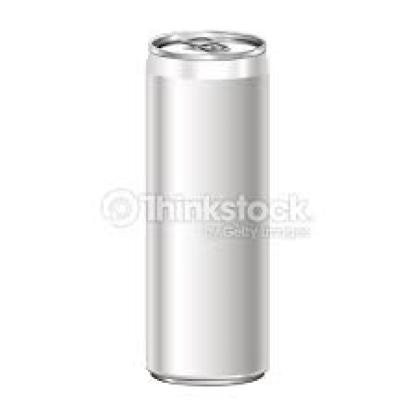trash: (146, 31, 268, 384)
